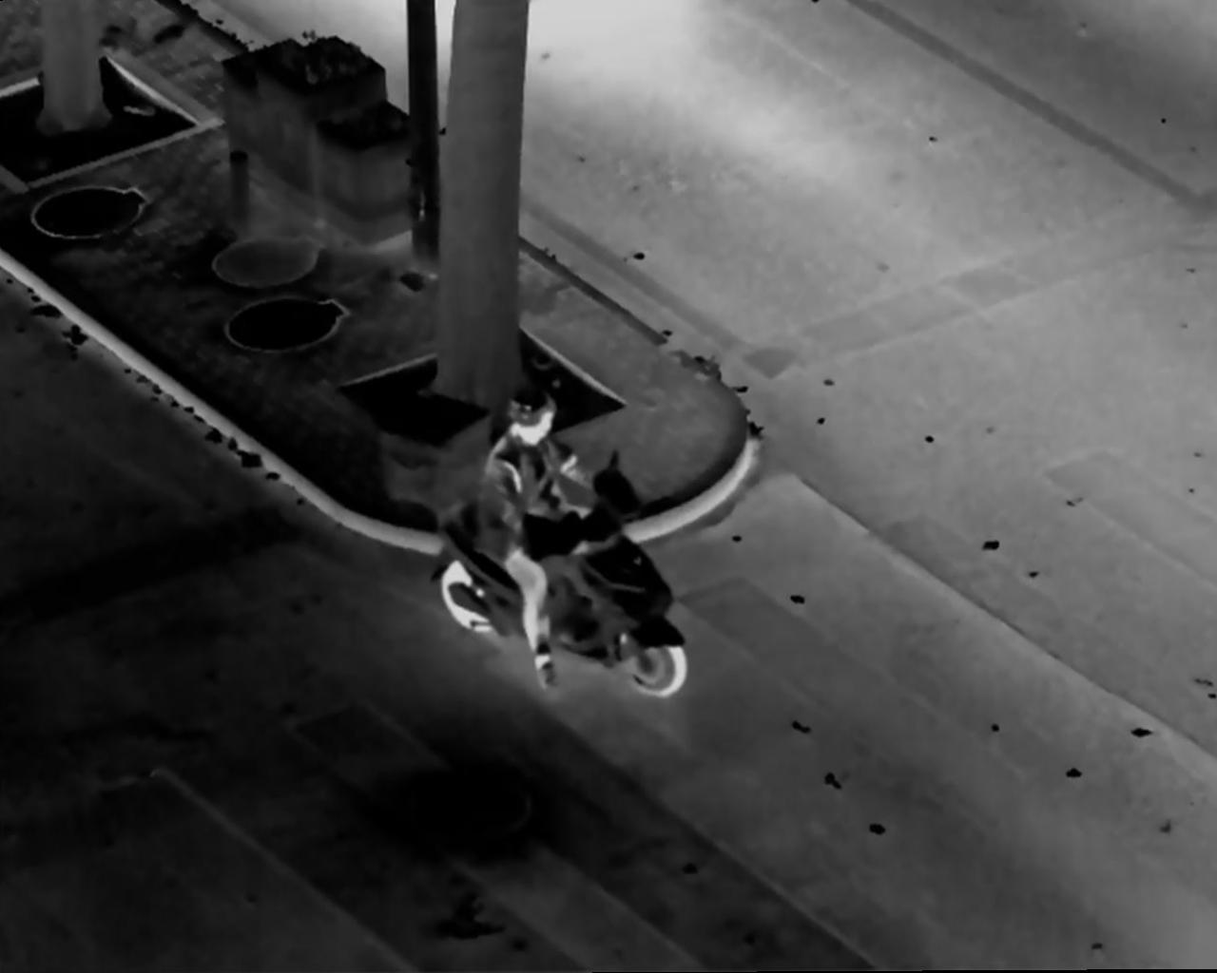person: (489, 380, 607, 687)
